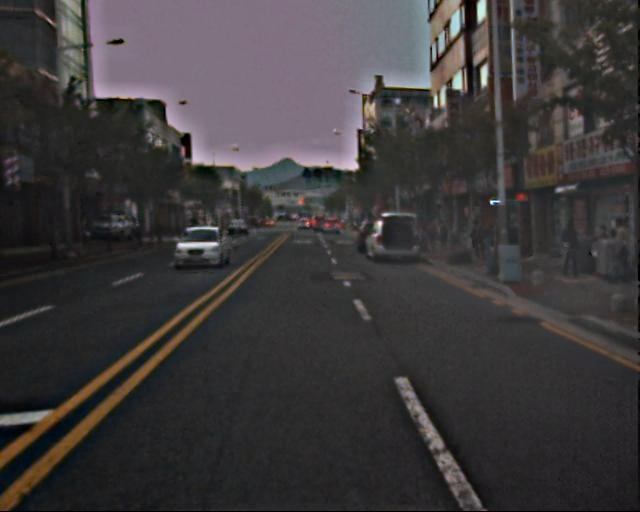person: (604, 216, 635, 276), (558, 219, 581, 276), (417, 221, 448, 248), (470, 217, 488, 260)
